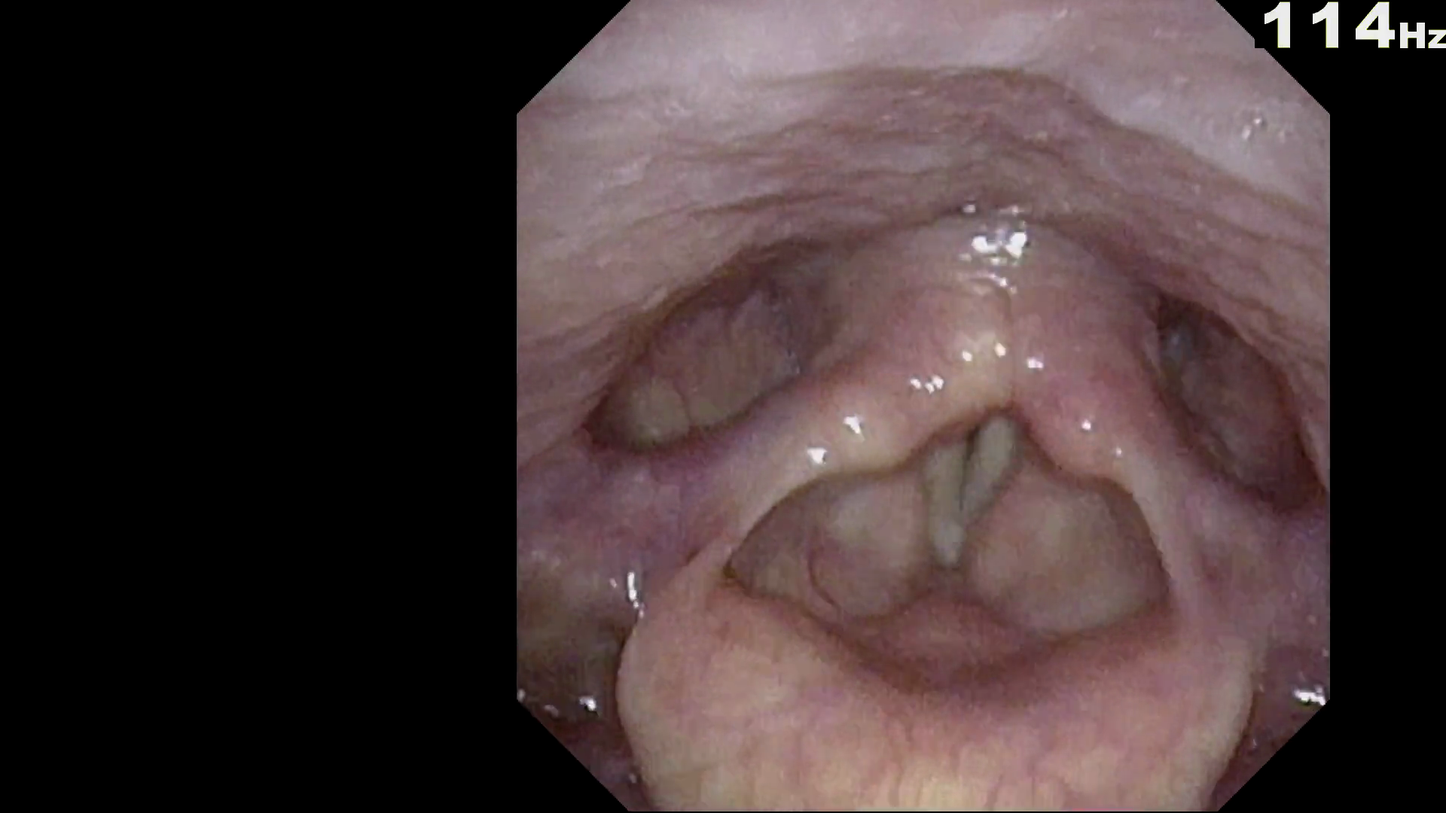epiglottis: (597, 503, 1255, 764)
trachea: (874, 360, 1052, 585)
